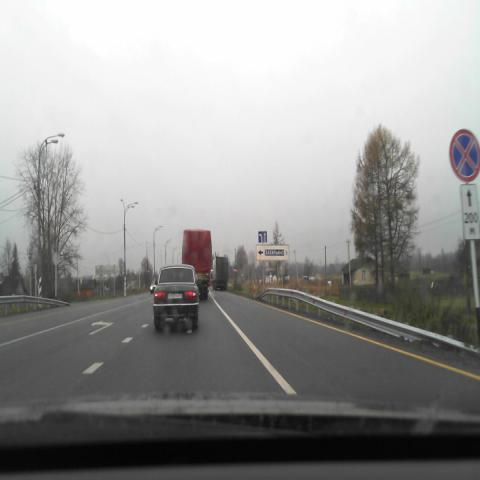8_2_2: (460, 184, 480, 239)
